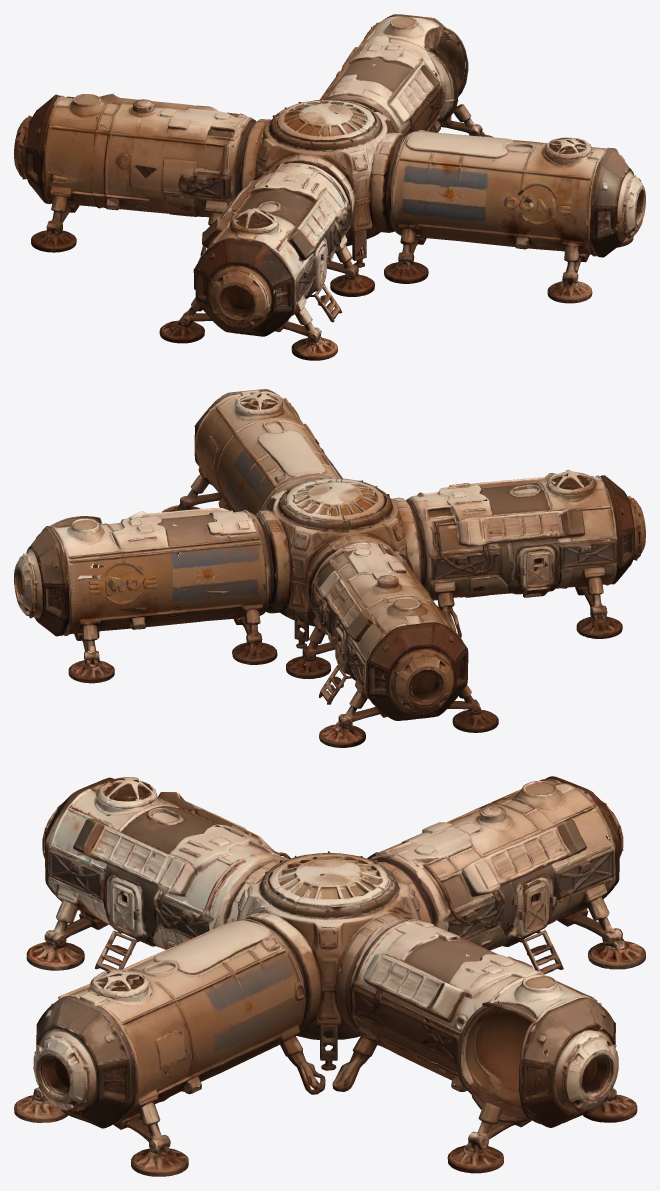
The model's file is conae-base-mars.glb.
The picture shows the model from 3 angles, top to bottom: view 1: azimuth 30°, elevation 25°; view 2: azimuth 150°, elevation 25°; view 3: azimuth 270°, elevation 25°; orthographic projection. The views are drawn at different scales.
Visible parts, largest first — view 1: tripo_node_efae930c-abba-41dd-acfa-9feb548036ff; view 2: tripo_node_efae930c-abba-41dd-acfa-9feb548036ff; view 3: tripo_node_efae930c-abba-41dd-acfa-9feb548036ff.
Part boxes in pixels (x1=…): tripo_node_efae930c-abba-41dd-acfa-9feb548036ff: x1=14, y1=14, x2=645, y2=360; tripo_node_efae930c-abba-41dd-acfa-9feb548036ff: x1=14, y1=389, x2=645, y2=747; tripo_node_efae930c-abba-41dd-acfa-9feb548036ff: x1=14, y1=776, x2=645, y2=1176.
Bounding box in the file's own units: 0.9803 × 0.262 × 0.9261.
Materials: 1 (1 with a texture image).
